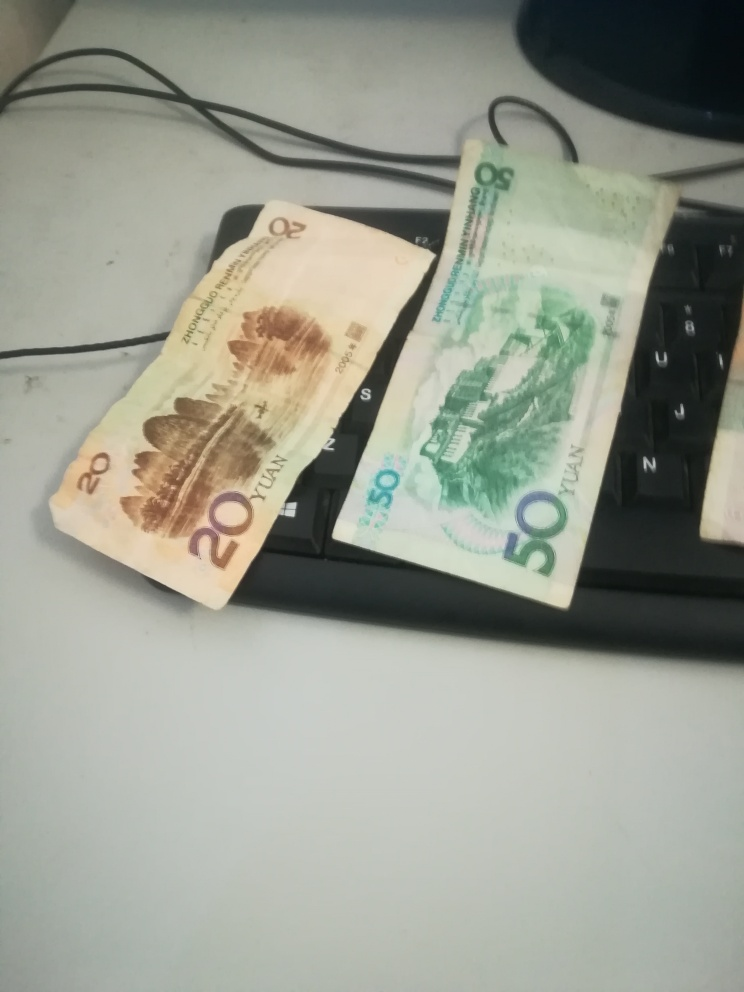rmb: (331, 135, 676, 630), (54, 202, 399, 622)
